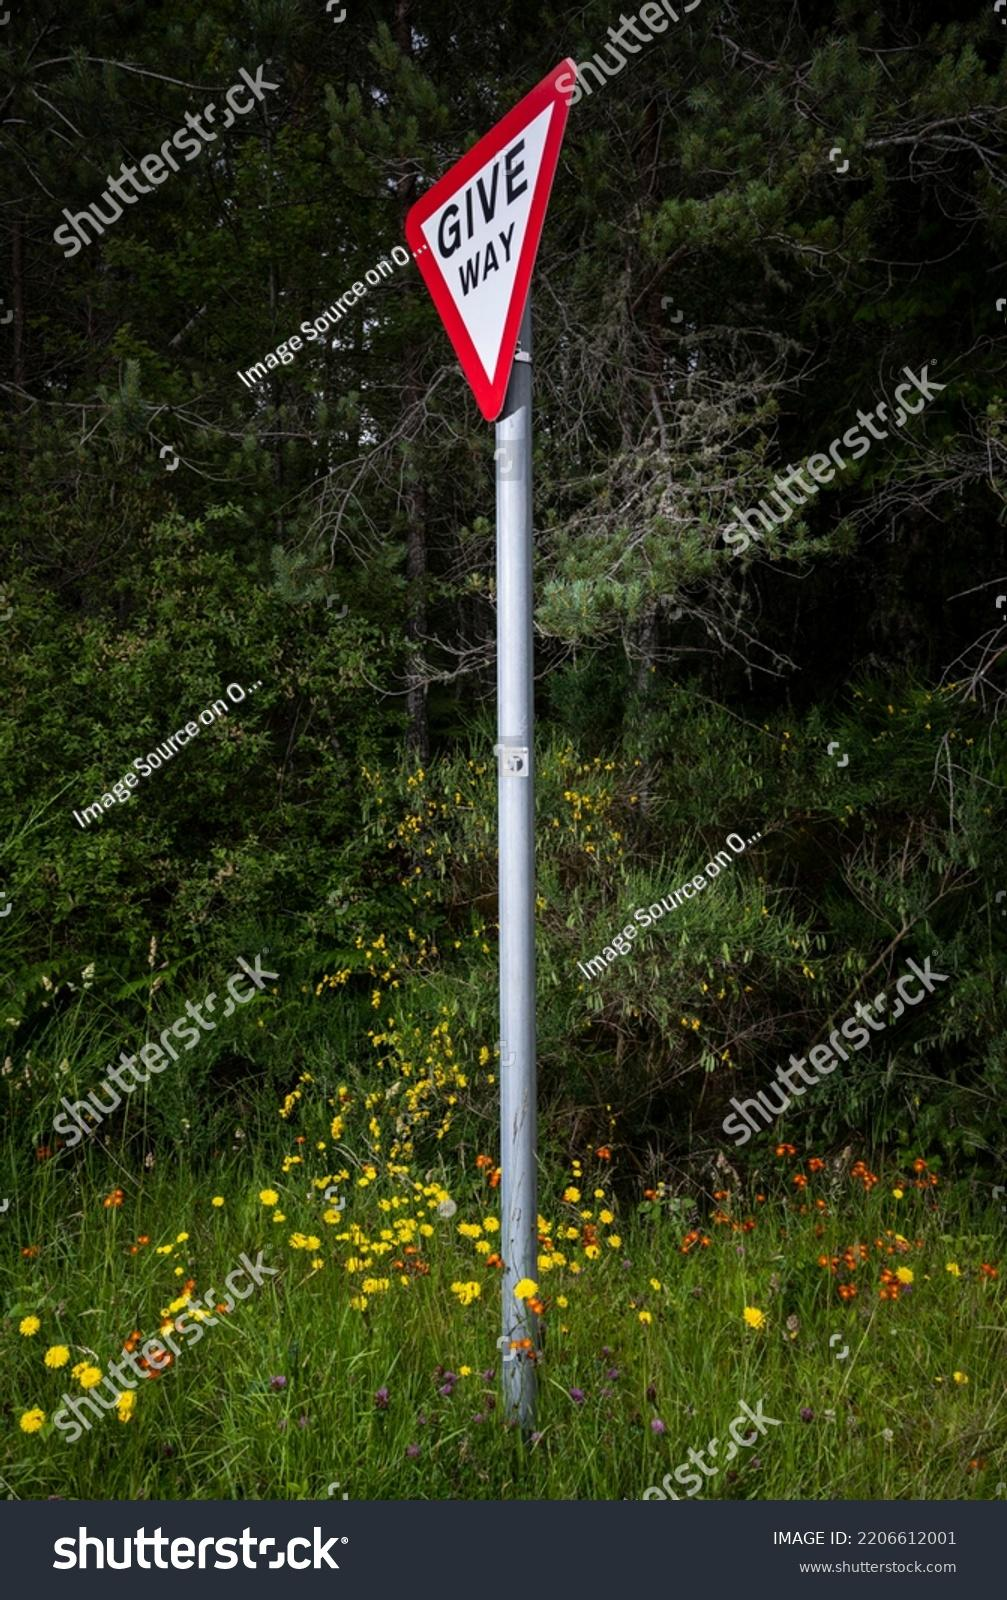Give Way: (368, 64, 633, 434)
